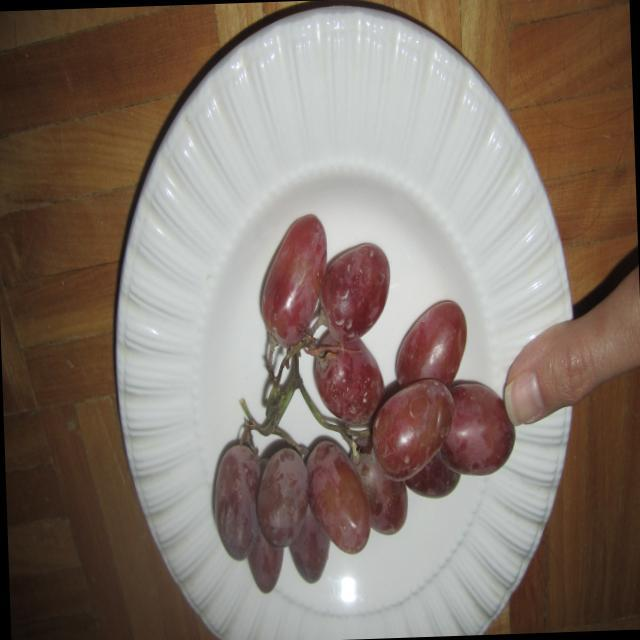Finger: (495, 310, 618, 436)
Grapes: (184, 196, 503, 599)
